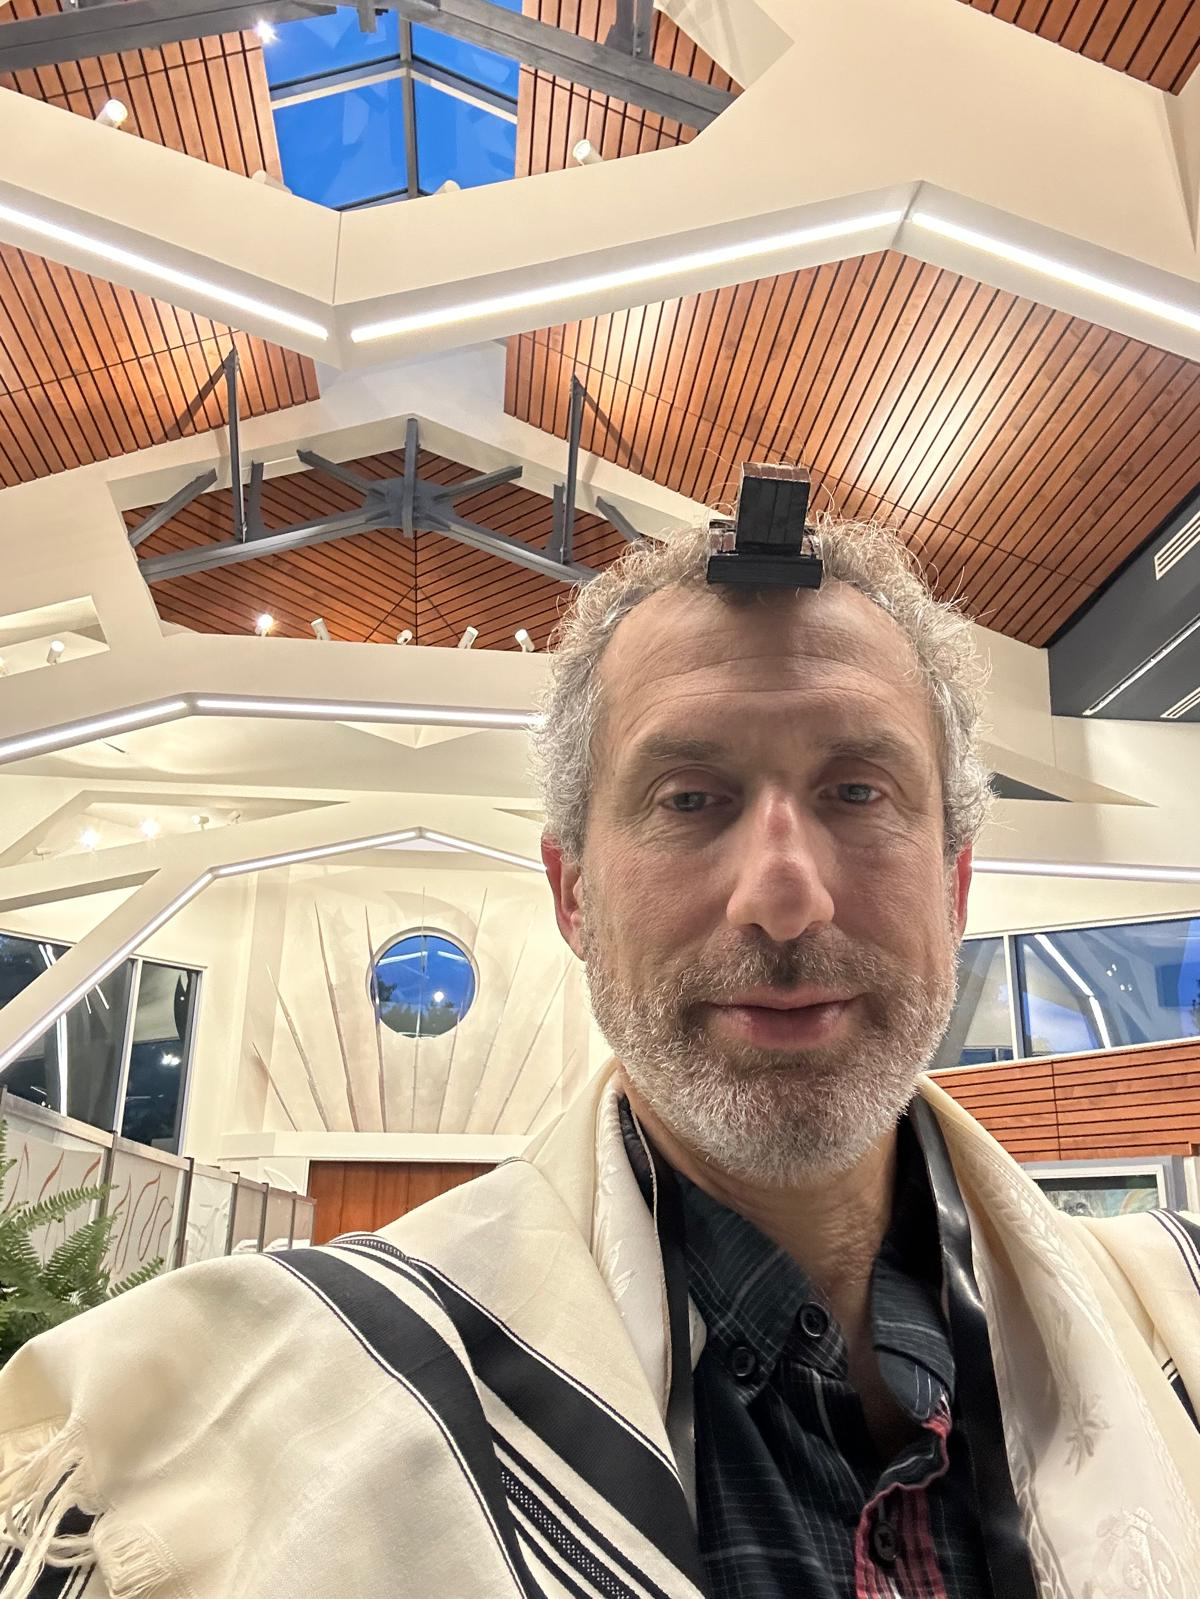tefillin: (707, 461, 824, 587)
